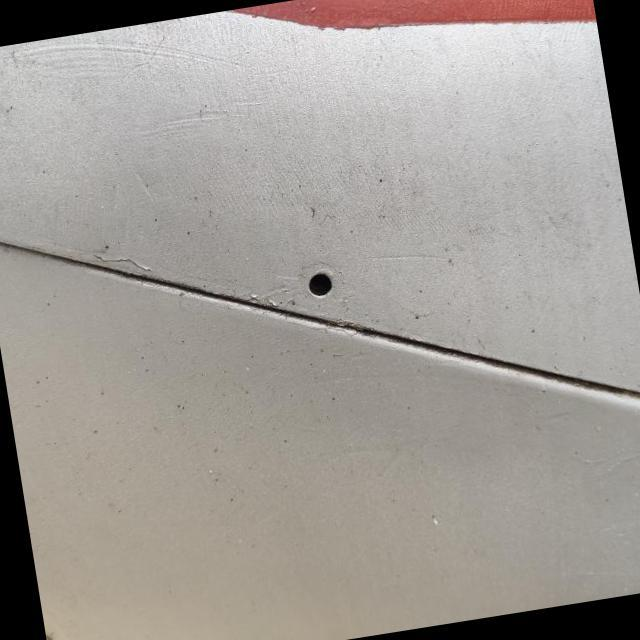Fastener Damage: (263, 232, 370, 338)
